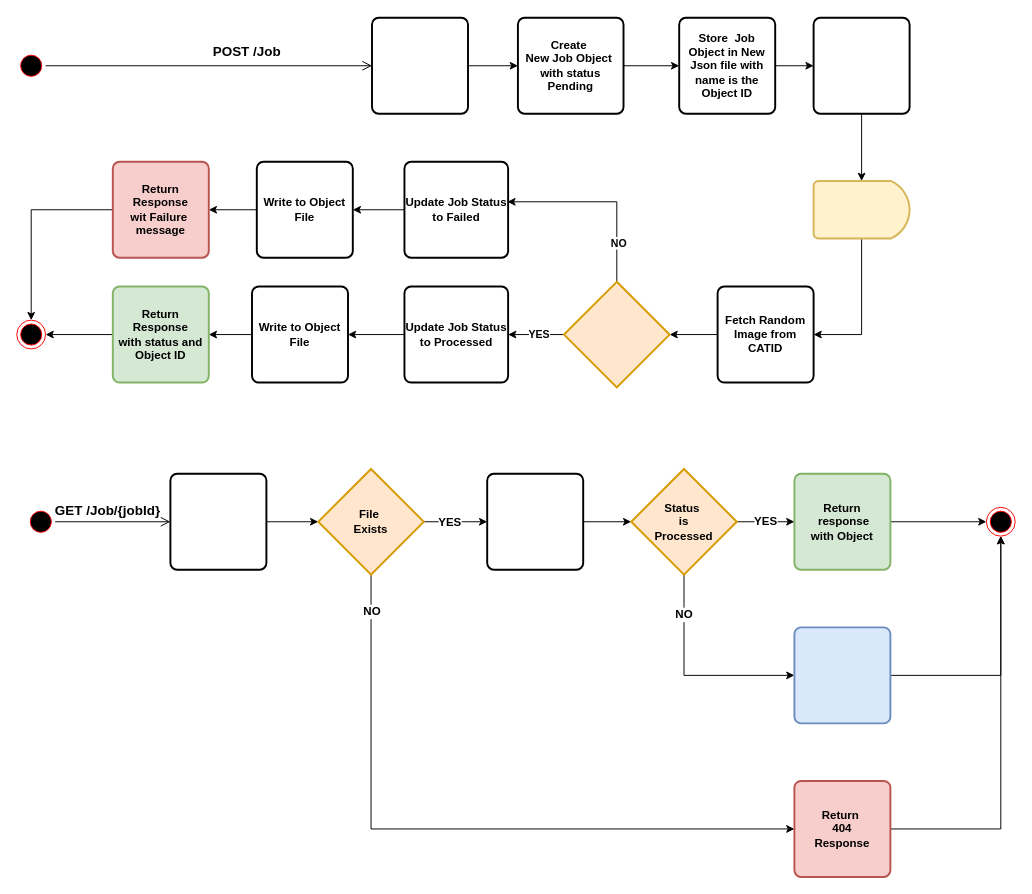
This 1032x894 diagram has some shape labels left out. Each missing label, with the centre of its shape:
Delay (x): the point at 861,209
Generate New JobId: the point at 419,65
Generate random number from 5000 to 300000 with 5000 step (x): the point at 861,65
Image Fetched: the point at 616,334
Load file into Json Object: the point at 535,521
Locate File using JobId: the point at 218,521
Return response with STATUS: the point at 842,675
